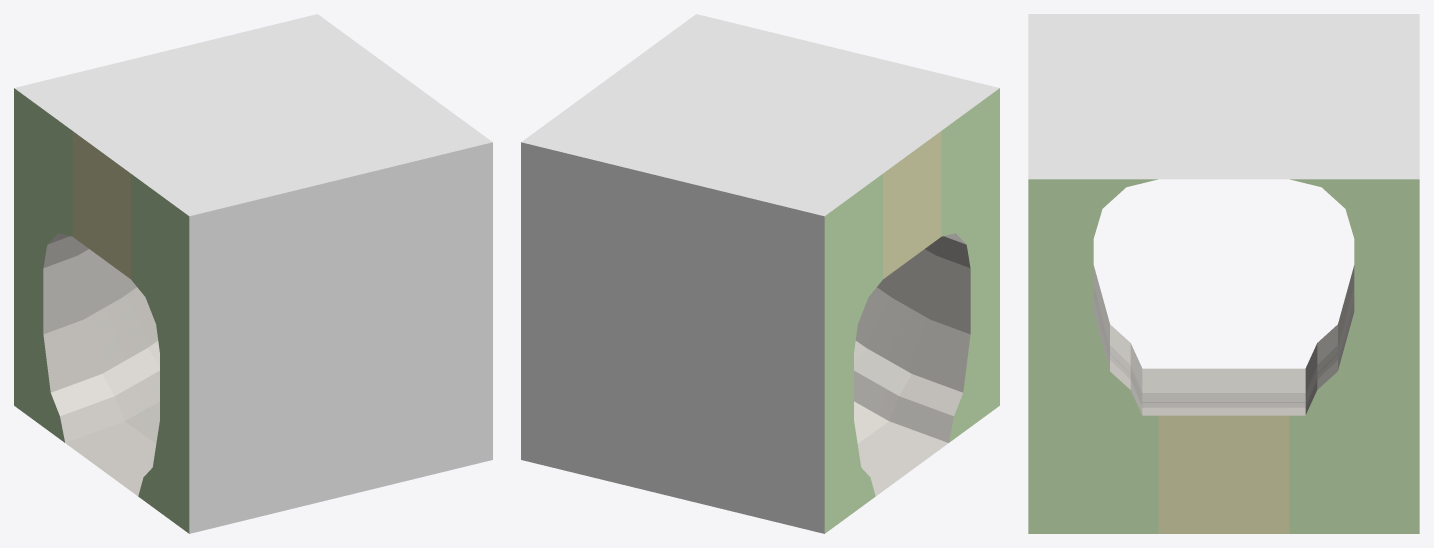
The model's file is Cave_Tunnel_Incline_Wide_Gentle.glb.
The picture shows the model from 3 angles, left to right: view 1: azimuth 30°, elevation 25°; view 2: azimuth 150°, elevation 25°; view 3: azimuth 270°, elevation 25°; orthographic projection. The views are drawn at different scales.
Parts seen in each view (by area): view 1: Wall_Incline_2x6_Top (×2), Wall_Incline_2x6_Base (×2), Ceiling_Incline_1x6, Floor_Incline_1x6; view 2: Wall_Incline_2x6_Top (×2), Wall_Incline_2x6_Base (×2), Ceiling_Incline_1x6, Floor_Incline_1x6; view 3: Wall_Incline_2x6_Top (×2), Wall_Incline_2x6_Base (×2), Ceiling_Incline_1x6, Floor_Incline_1x6.
Boxes of the visible parts, x1=… form: Wall_Incline_2x6_Top (×2): x1=14, y1=14, x2=492, y2=427; Wall_Incline_2x6_Base (×2): x1=14, y1=248, x2=492, y2=533; Ceiling_Incline_1x6: x1=72, y1=57, x2=433, y2=278; Floor_Incline_1x6: x1=73, y1=411, x2=159, y2=490; Wall_Incline_2x6_Top (×2): x1=521, y1=14, x2=999, y2=427; Wall_Incline_2x6_Base (×2): x1=521, y1=248, x2=999, y2=533; Ceiling_Incline_1x6: x1=580, y1=57, x2=941, y2=278; Floor_Incline_1x6: x1=854, y1=411, x2=940, y2=490; Wall_Incline_2x6_Top (×2): x1=1028, y1=14, x2=1419, y2=415; Wall_Incline_2x6_Base (×2): x1=1028, y1=265, x2=1419, y2=533; Ceiling_Incline_1x6: x1=1158, y1=14, x2=1289, y2=179; Floor_Incline_1x6: x1=1158, y1=368, x2=1289, y2=533.
Size of the model in its own units: 600 by 600 by 600.
